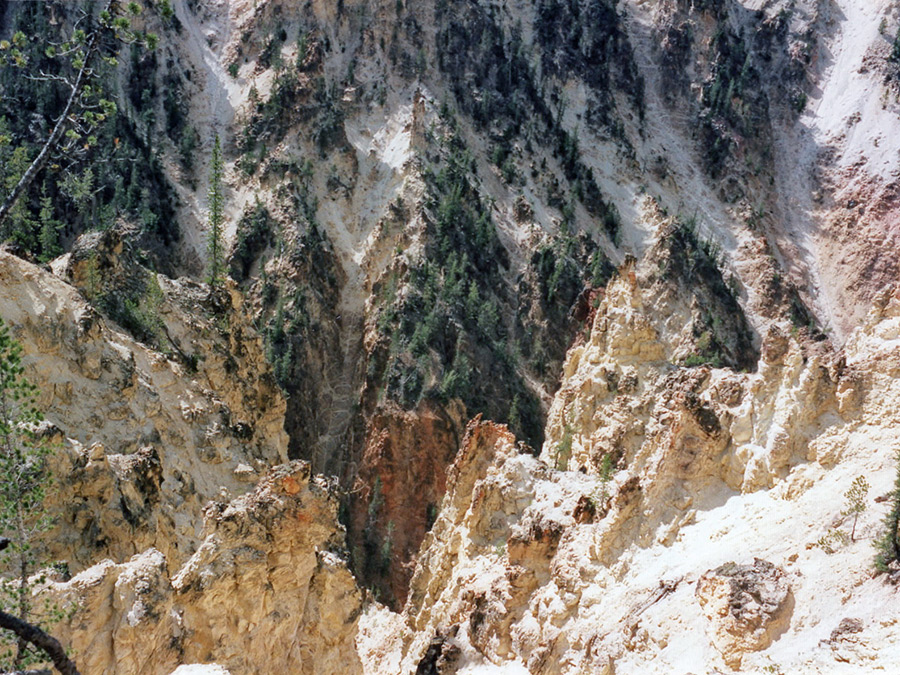volcanic_rock: (171, 475, 365, 675), (360, 175, 530, 402)
